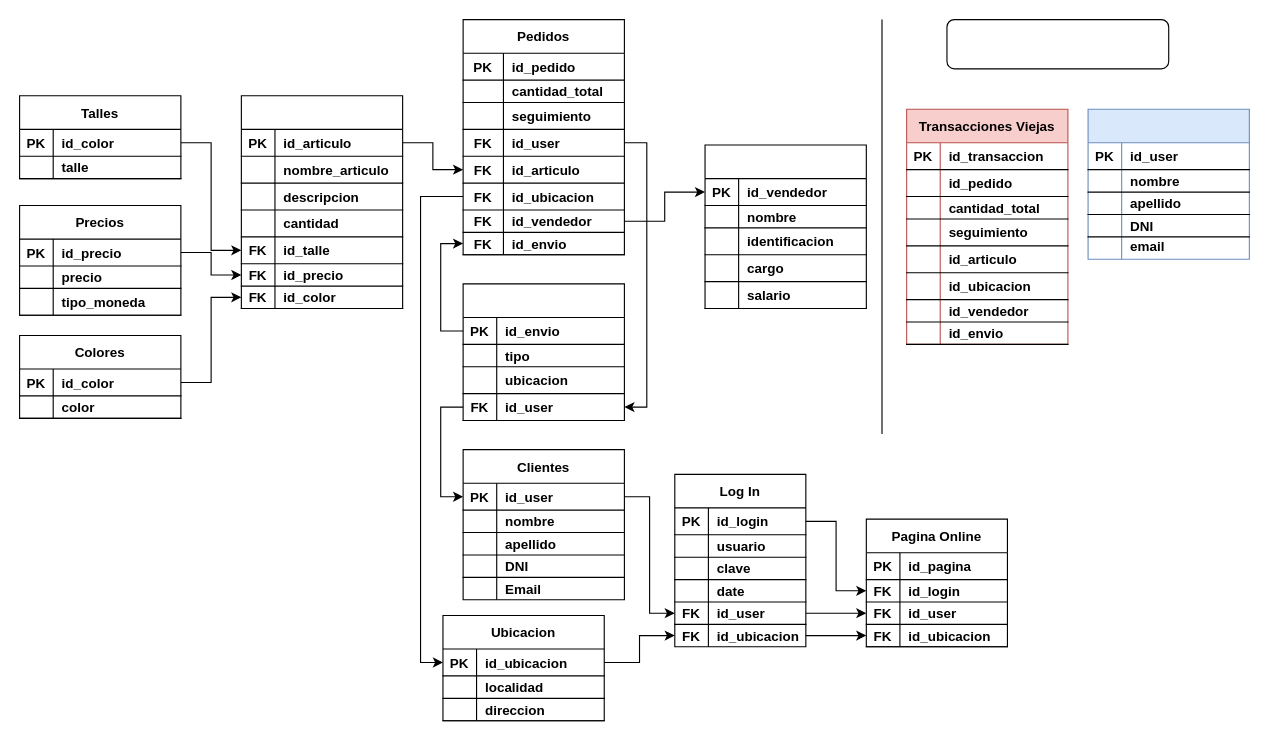
Image size: 1269x740. Some labels were removed from this diagram. Each missing label, with the box of its shape:
Articulos: (240, 95, 403, 309)
Envios: (462, 283, 624, 421)
Nuevos Clientes: (1087, 108, 1249, 259)
Tablas de auditoria: (946, 18, 1169, 69)
Vendedores: (704, 144, 866, 309)
